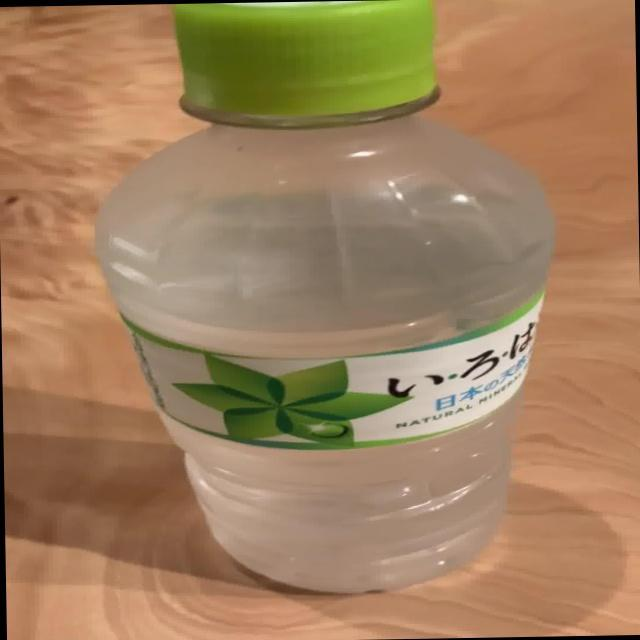good: (86, 0, 563, 601)
